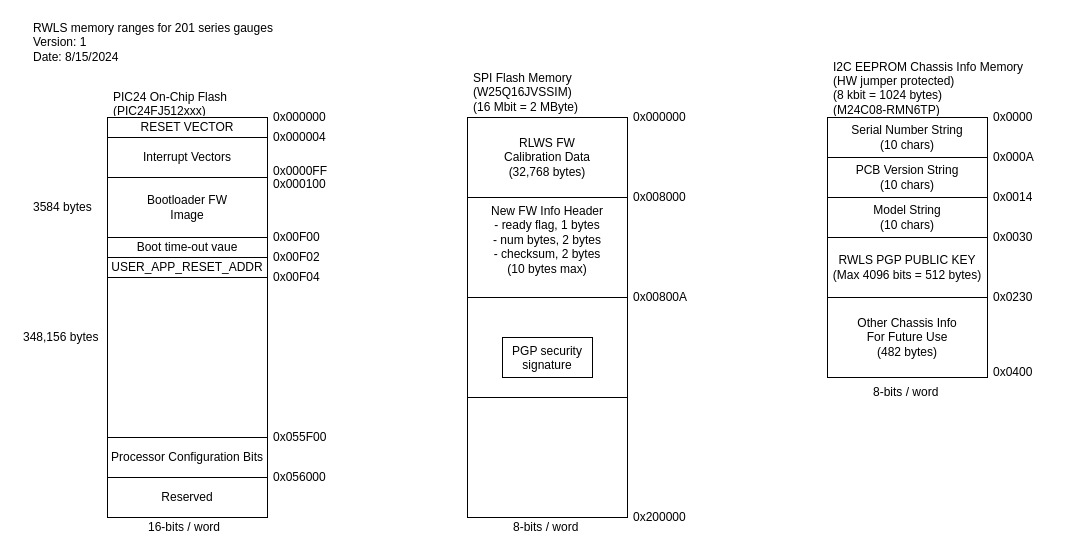
Image size: 1084x554. Some labels were removed from this diagram. The box of each missing label's shape, as (x1, y1, x2, y2) in pixels:
New RWLS FW Image: (466, 296, 628, 398)
RWLS FW Application: (106, 276, 268, 438)
Unallocated space for future use: (466, 396, 628, 518)
